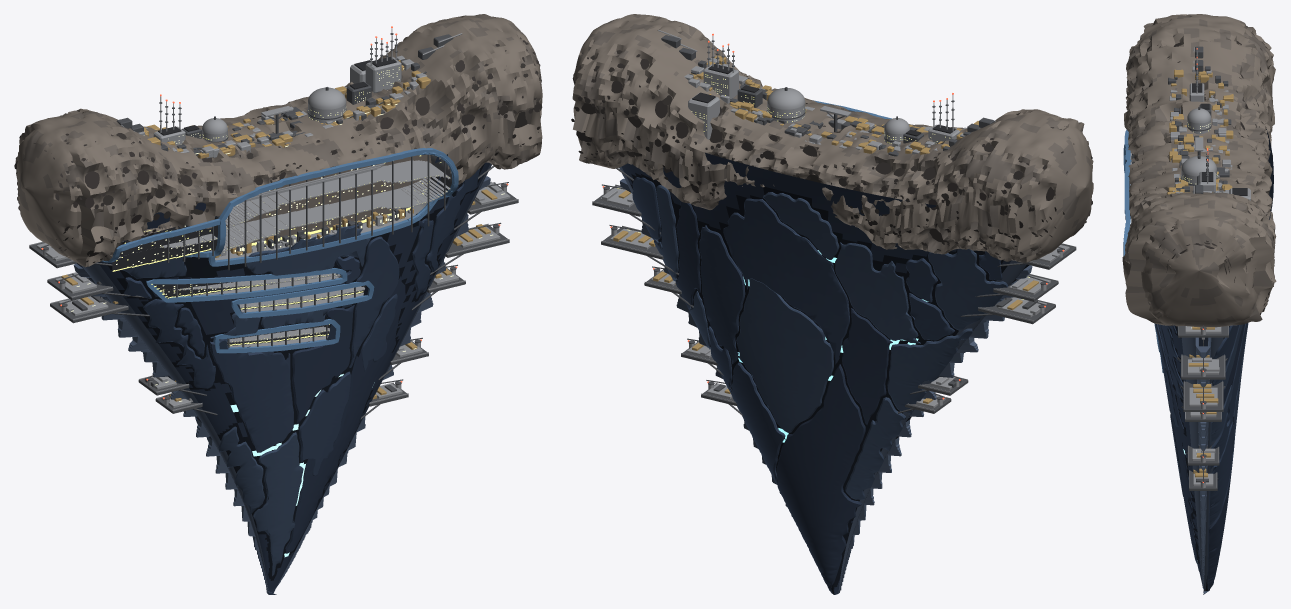
3 renders of one model, left to right at view 1: azimuth 30°, elevation 25°; view 2: azimuth 150°, elevation 25°; view 3: azimuth 270°, elevation 25°, orthographic. The views are drawn at different scales.
Visible parts, largest first — view 1: DC_root, DC_plates, DC_galleries, DC_hull, DC_city, DC_platforms, DC_teeth; view 2: DC_plates, DC_root, DC_hull, DC_city, DC_platforms, DC_teeth; view 3: DC_root, DC_plates, DC_city, DC_platforms, DC_hull, DC_teeth, DC_galleries.
Boxes of the visible parts, x1=… form: DC_root: x1=14, y1=14, x2=542, y2=267; DC_plates: x1=122, y1=168, x2=480, y2=576; DC_galleries: x1=101, y1=148, x2=458, y2=353; DC_hull: x1=77, y1=148, x2=491, y2=594; DC_city: x1=116, y1=26, x2=462, y2=158; DC_platforms: x1=29, y1=165, x2=518, y2=419; DC_teeth: x1=73, y1=176, x2=490, y2=592; DC_plates: x1=632, y1=177, x2=1008, y2=593; DC_root: x1=571, y1=14, x2=1093, y2=262; DC_hull: x1=619, y1=152, x2=1029, y2=594; DC_city: x1=658, y1=30, x2=995, y2=156; DC_platforms: x1=592, y1=168, x2=1076, y2=415; DC_teeth: x1=620, y1=178, x2=1032, y2=590; DC_root: x1=1122, y1=14, x2=1276, y2=327; DC_plates: x1=1155, y1=322, x2=1248, y2=591; DC_city: x1=1167, y1=46, x2=1250, y2=200; DC_platforms: x1=1175, y1=325, x2=1229, y2=490; DC_hull: x1=1132, y1=129, x2=1273, y2=594; DC_teeth: x1=1196, y1=338, x2=1210, y2=588; DC_galleries: x1=1123, y1=129, x2=1163, y2=372.
Bounding box in the file's own units: 2600 × 2626 × 735.
